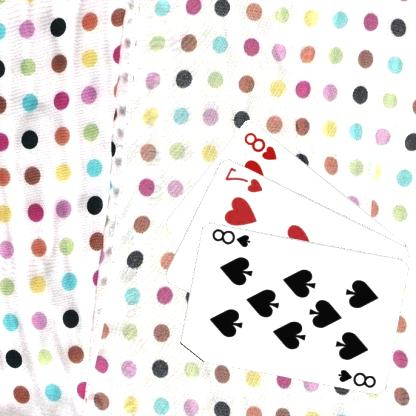7H: (223, 164, 266, 194)
8H: (243, 129, 280, 161)
8S: (337, 366, 379, 389), (211, 226, 254, 248)
